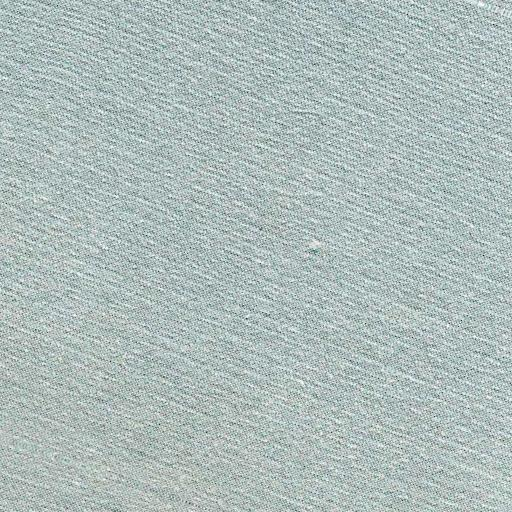knot: (289, 231, 334, 267)
